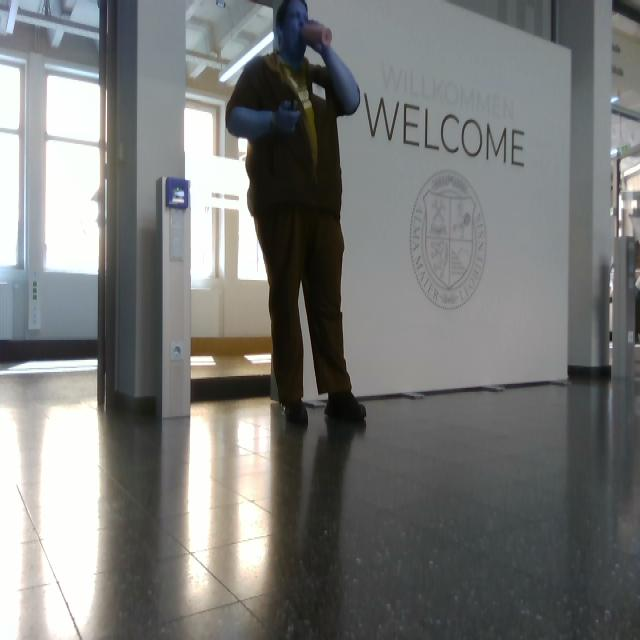door: (158, 176, 192, 420)
light bulb: (219, 30, 275, 84), (301, 21, 333, 48), (238, 137, 248, 161), (61, 1, 76, 16)
person: (225, 1, 367, 425)
pillar: (102, 1, 192, 420)
tiled floor: (2, 362, 639, 637)
